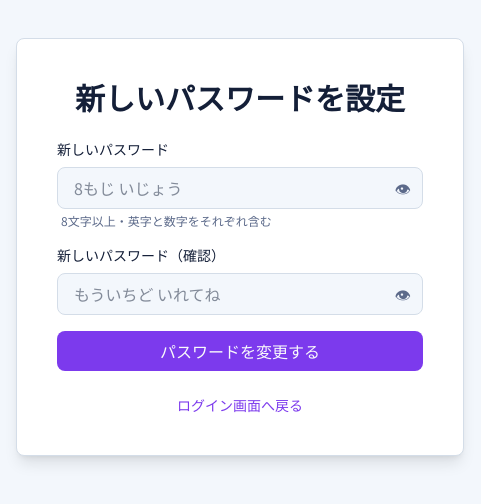
it: PasswordResetPage › 成功時は成功メッセージと今すぐ進むリンクを表示する
This screenshot has width=481, height=504.
Type "newpass123" into the password field with id "reset-password" at x=240, y=188, box [57,167,423,209]
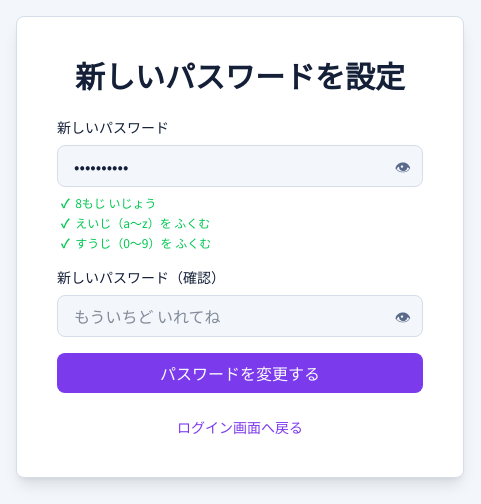
Type "newpass123" into the password field with id "reset-password-confirmation" at x=240, y=316, box [57,295,423,337]
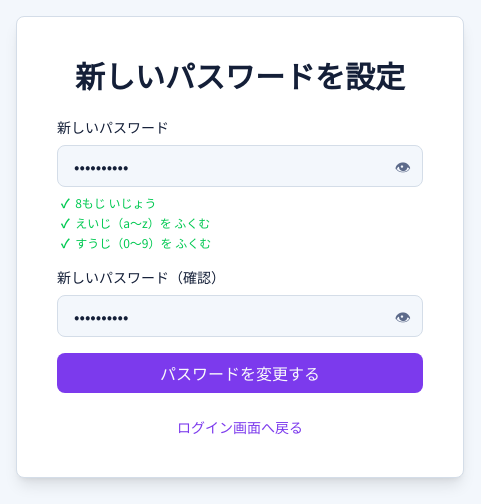
Click the button "パスワードを変更する" at x=240, y=373, box [57,353,423,393]
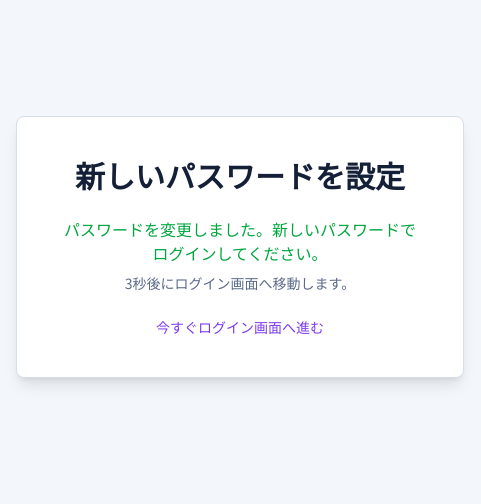
Expected: the text "パスワードを変更しました。新しいパスワードでログインしてください。" is shown, [57,217,423,265]
Expected: the message shows "3秒後にログイン画面へ移動します。", [125,273,355,293]
